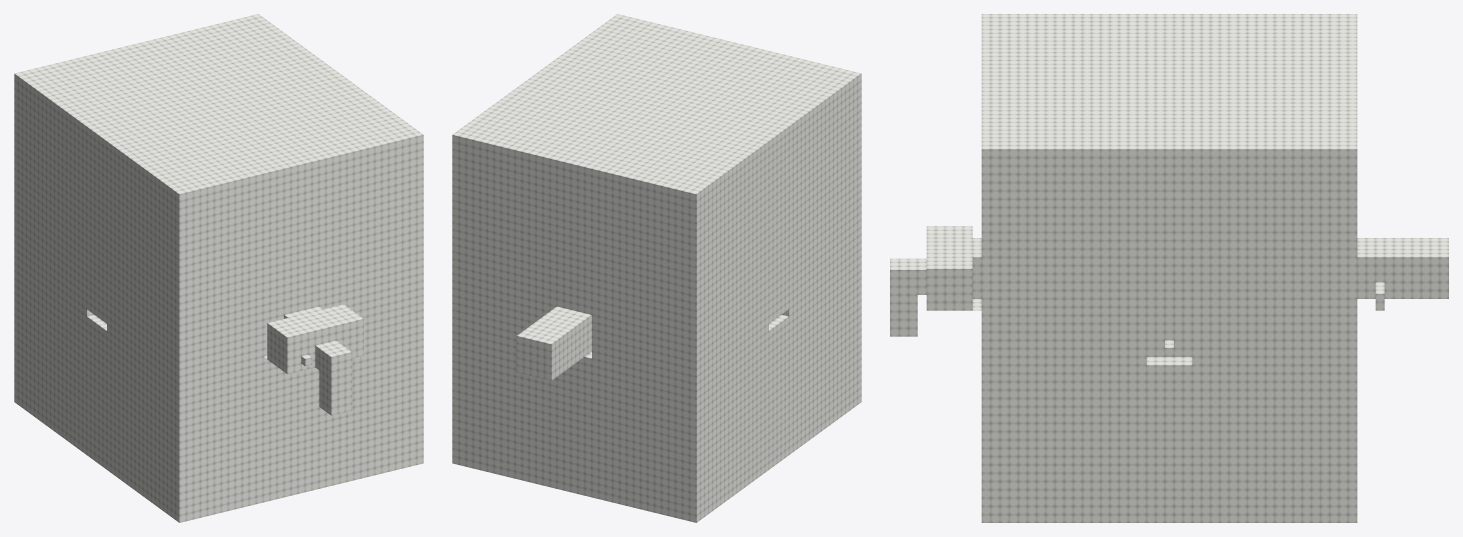
The model's file is level1_exterior.fbx.
3 renders of one model, left to right at view 1: azimuth 30°, elevation 25°; view 2: azimuth 150°, elevation 25°; view 3: azimuth 270°, elevation 25°, orthographic. The views are drawn at different scales.
Visible parts, largest first — view 1: level1_exterior; view 2: level1_exterior; view 3: level1_exterior.
Boxes of the visible parts, x1,y1,x2,y2 form: level1_exterior: (14, 14, 423, 522); level1_exterior: (452, 14, 861, 522); level1_exterior: (890, 14, 1448, 522).
Size of the model in its own units: 61 by 37 by 45.
2 materials, 1 textured.
